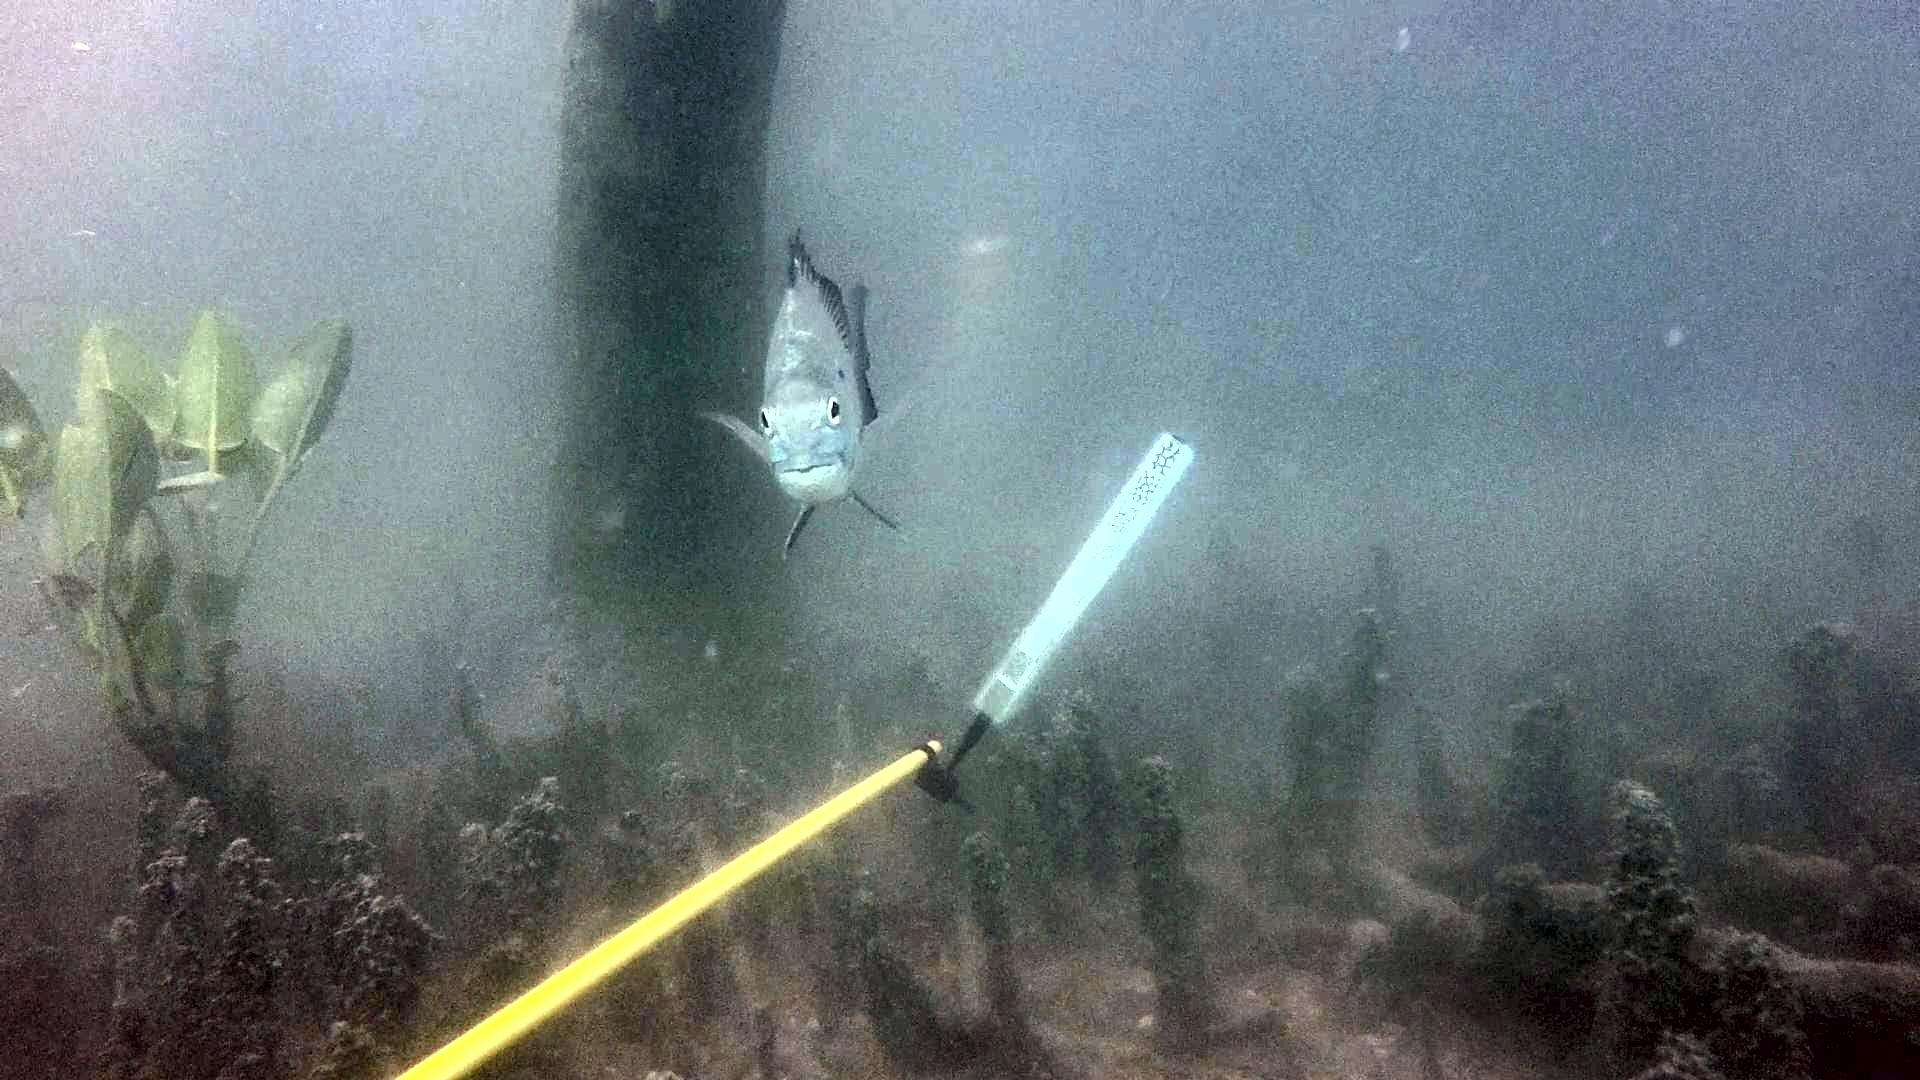acanthopagrus palmaris: (700, 221, 916, 555)
